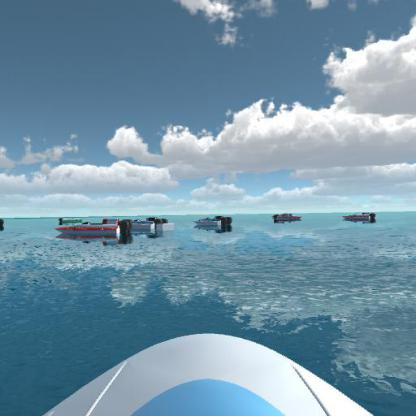usv0: (58, 213, 83, 225)
usv1: (120, 212, 170, 236), (191, 209, 233, 234)
usv3: (49, 214, 133, 244), (337, 208, 380, 228), (270, 210, 303, 226)
